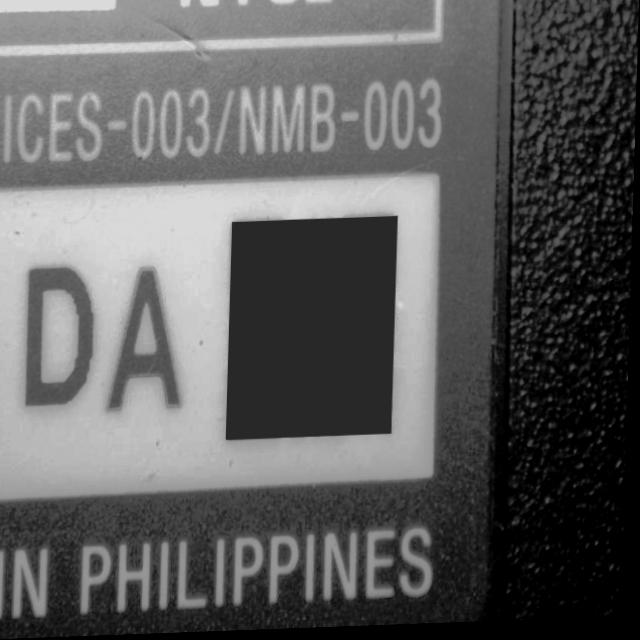qr_code: (228, 218, 399, 442)
